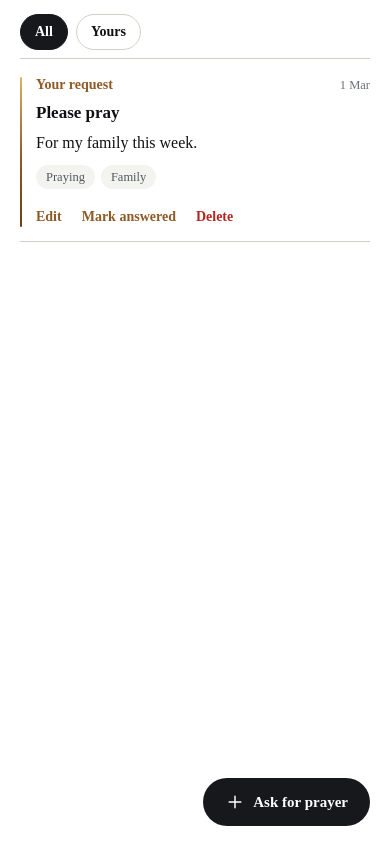
notices › clears that notice when the next action starts
The width and height of the screenshot is (390, 844).
Click the button with test id "prayer-request-answered-p1" at (129, 217), box [82,195,176,239]
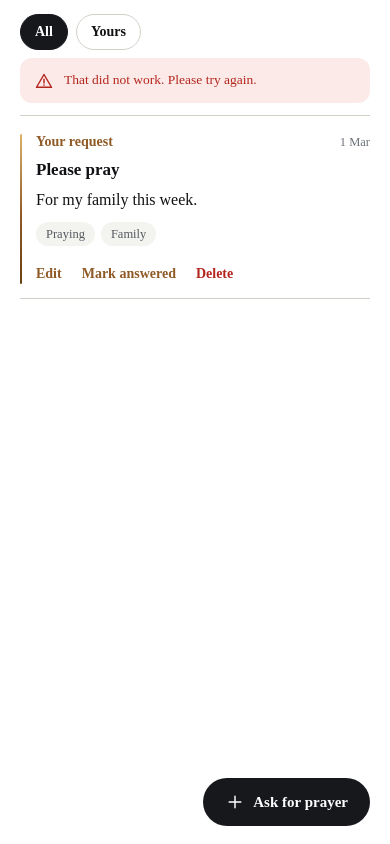
Result: the element with test id "prayer-wall-action-failed" is shown at [20,58,370,103]
Click the button with test id "prayer-request-answered-p1" at (129, 274), box [82,252,176,296]
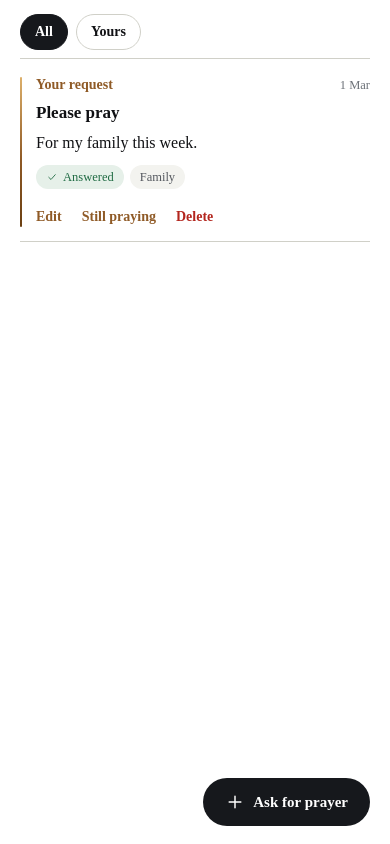
Result: the element with test id "prayer-wall-action-failed" is gone
